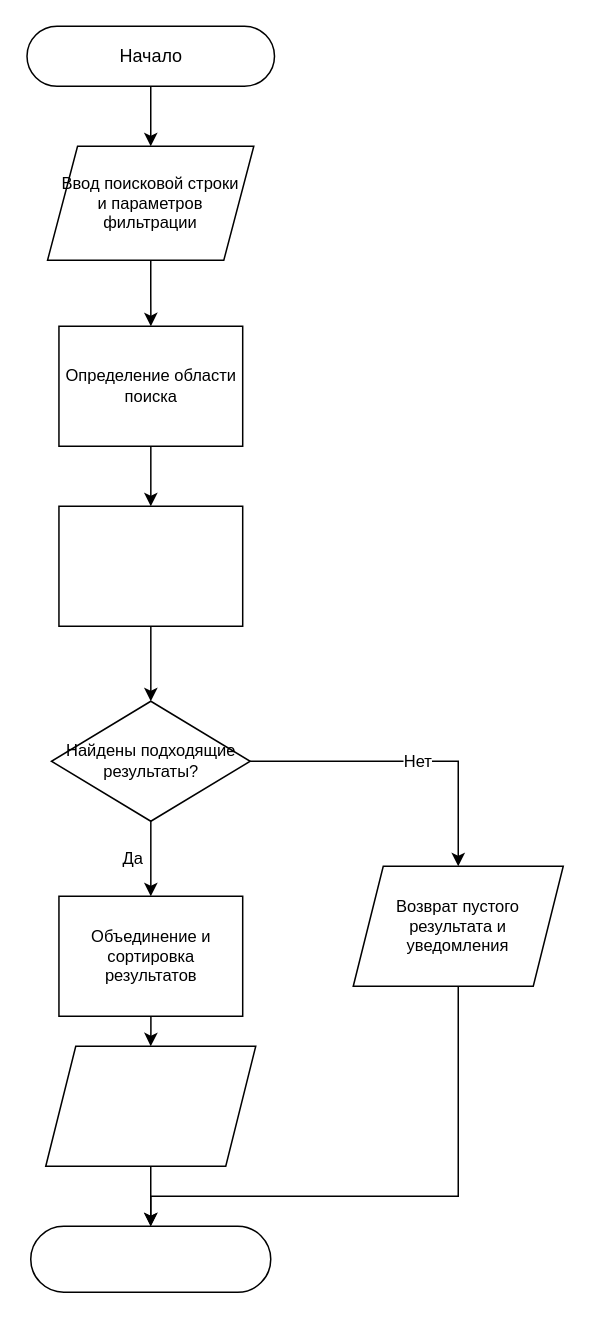
Some shapes in this 590 by 1319 pixel diagram are drawn without their labels. The centre of each missing label's shape, as x and y in pixels:
"Возврат списка найденных объектов" belongs at [150,1105].
"Конец" belongs at [150,1258].
"Поиск по индексированным данным проекта" belongs at [150,565].
